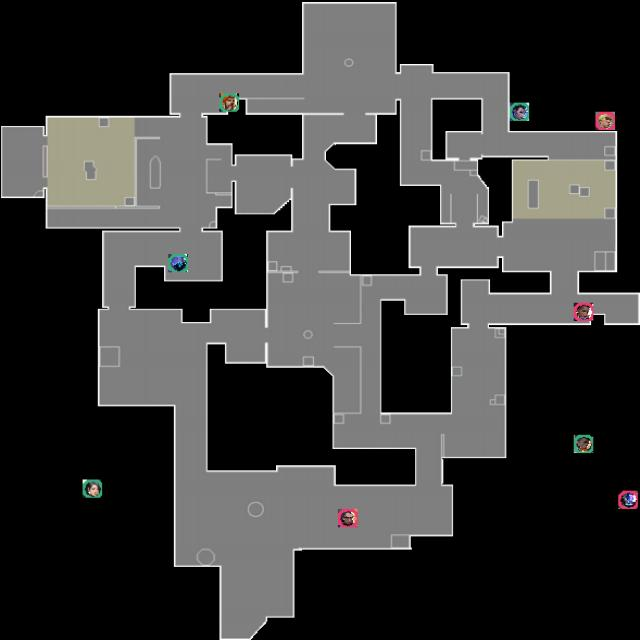atk_astra: (574, 303, 593, 321)
atk_gekko: (595, 112, 615, 130)
atk_kayo: (618, 491, 638, 509)
atk_reyna: (338, 509, 357, 527)
def_brimstone: (220, 93, 239, 112)
def_omen: (168, 254, 188, 272)
def_phoenix: (574, 435, 593, 453)
def_sage: (83, 479, 102, 498)
def_yoru: (510, 102, 529, 121)
